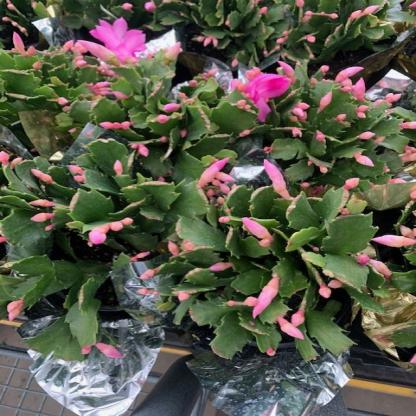Aglonema: (91, 28, 343, 389)
